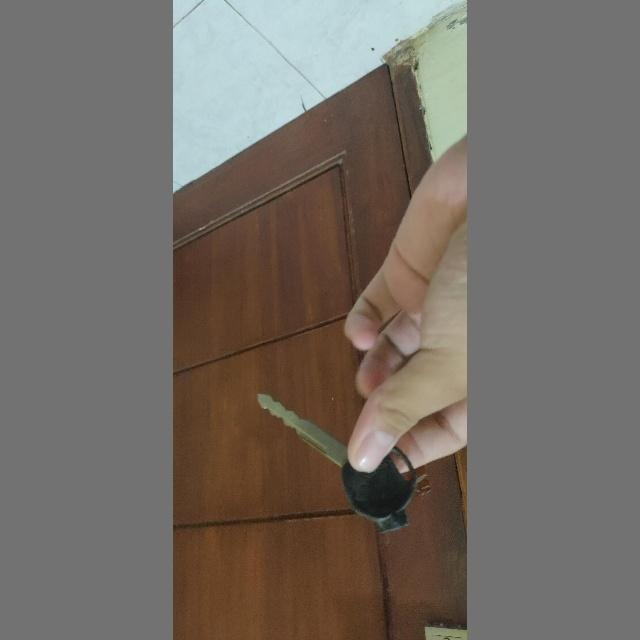Keys: (253, 384, 425, 548)
